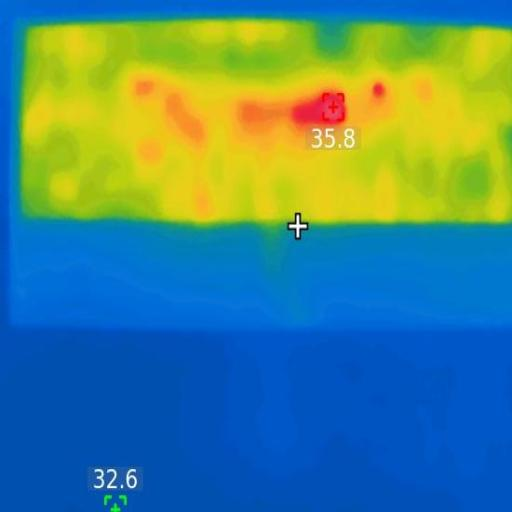hotspot: (316, 96, 346, 122)
